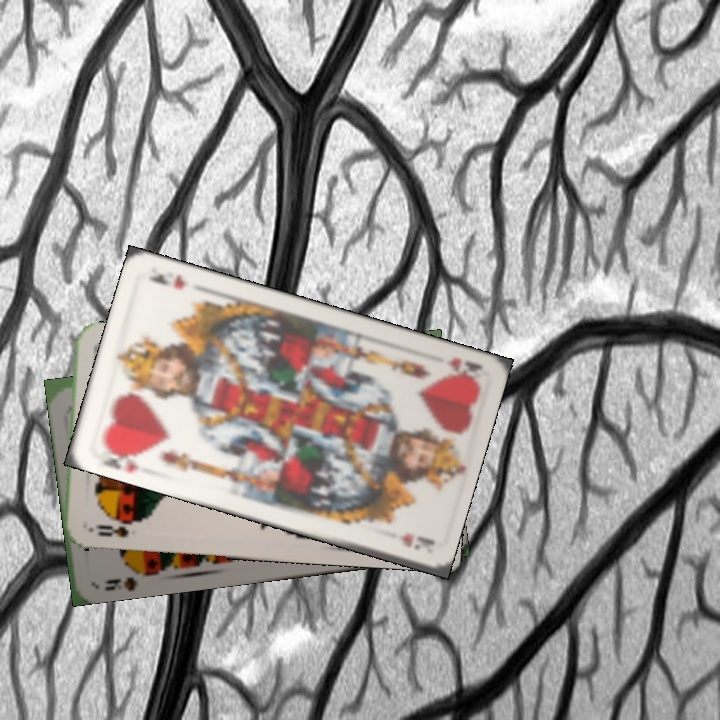HK: (98, 439, 147, 475), (442, 353, 484, 384)
S9: (100, 561, 153, 594)
SO: (91, 521, 131, 540)
